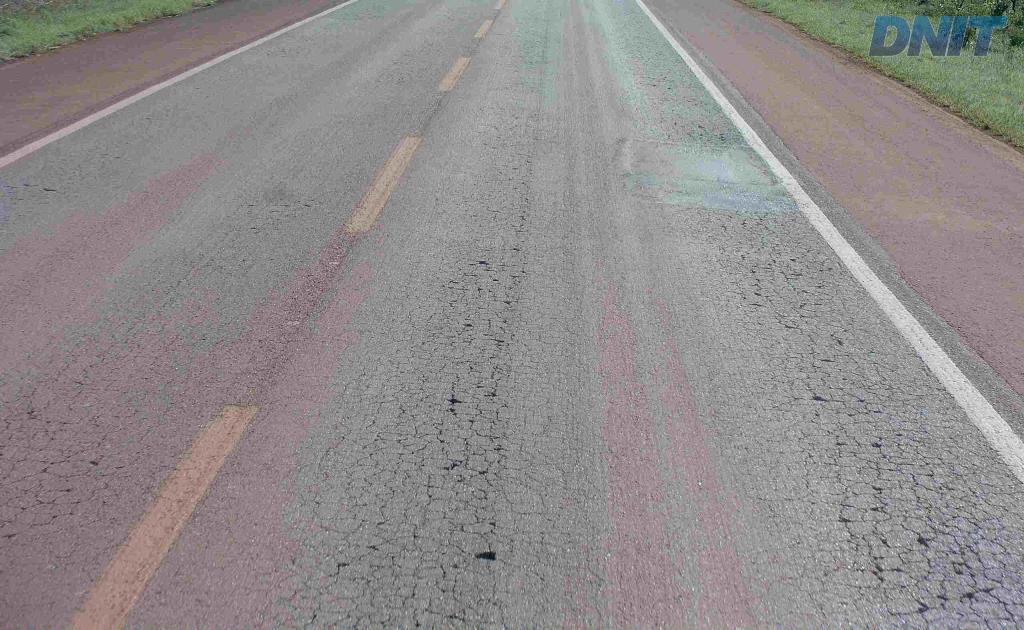crack: (900, 523, 993, 596)
